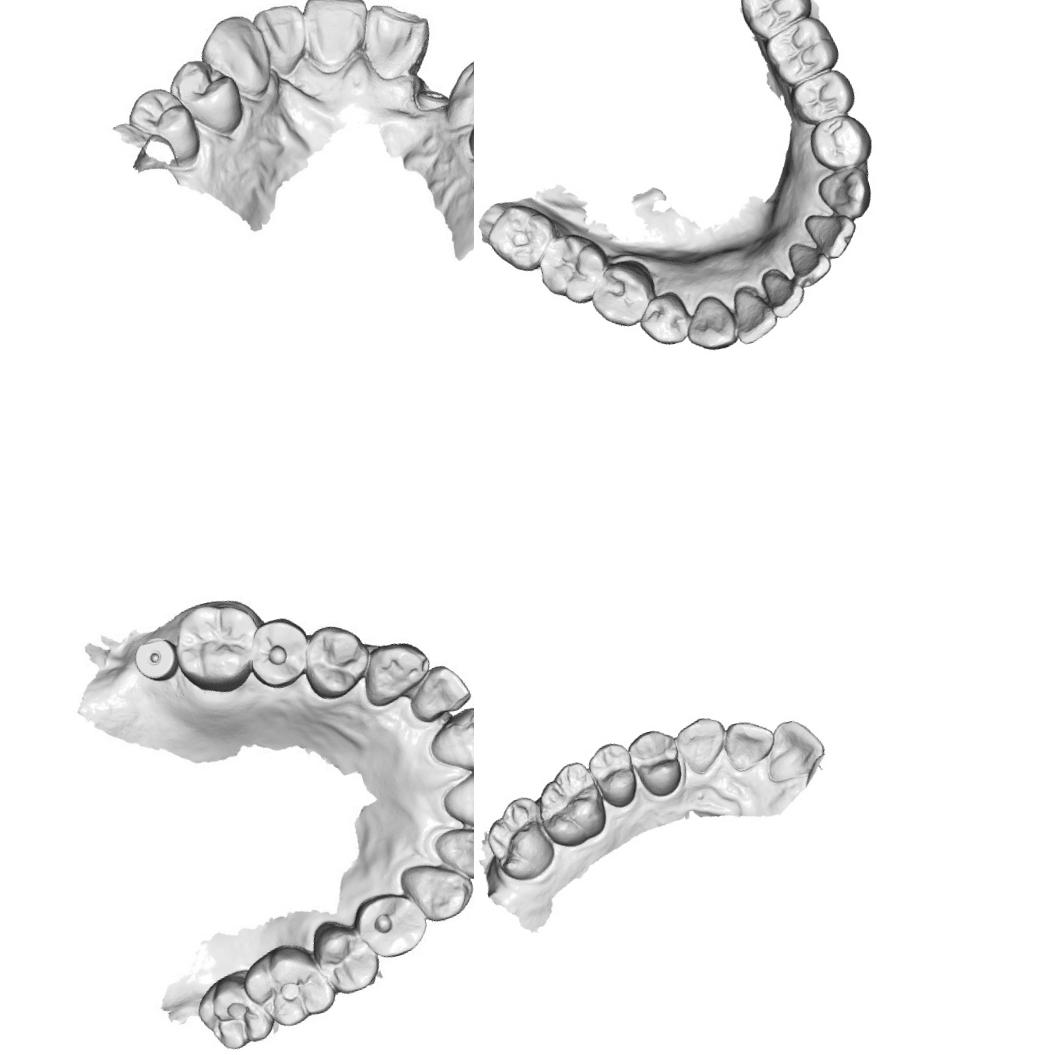canine: (191, 7, 281, 107), (400, 849, 474, 926), (360, 637, 434, 709), (668, 710, 734, 780), (814, 162, 876, 226), (680, 293, 737, 356), (431, 49, 474, 130)
implant: (128, 628, 185, 690), (402, 74, 458, 125)
incisor: (350, 0, 442, 87), (293, 0, 380, 79), (753, 712, 831, 786), (250, 0, 317, 80), (404, 660, 472, 722), (717, 712, 782, 776), (802, 202, 864, 265), (725, 280, 782, 346), (428, 706, 474, 776), (758, 261, 810, 322), (784, 236, 836, 291), (432, 819, 474, 882), (442, 763, 474, 837)
molar: (170, 598, 264, 692), (240, 940, 336, 1032), (527, 755, 613, 854), (475, 790, 560, 888), (192, 967, 277, 1055), (478, 194, 562, 281), (530, 227, 611, 312), (760, 13, 842, 90), (734, 0, 814, 42)
premolar: (162, 46, 250, 144), (120, 77, 206, 175), (584, 252, 662, 332), (353, 885, 431, 960), (296, 620, 368, 699), (246, 614, 317, 690), (621, 723, 688, 803), (312, 916, 378, 996), (581, 736, 643, 814), (805, 108, 876, 176), (788, 66, 858, 126), (635, 290, 698, 356)
